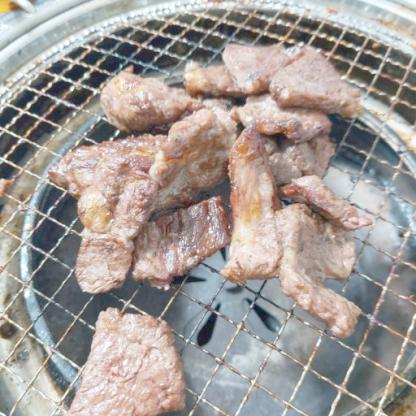Carne: (62, 97, 236, 295), (70, 310, 196, 416), (226, 113, 297, 277), (274, 200, 357, 338), (95, 68, 200, 134), (266, 42, 356, 115), (288, 177, 384, 226), (226, 35, 302, 94)
